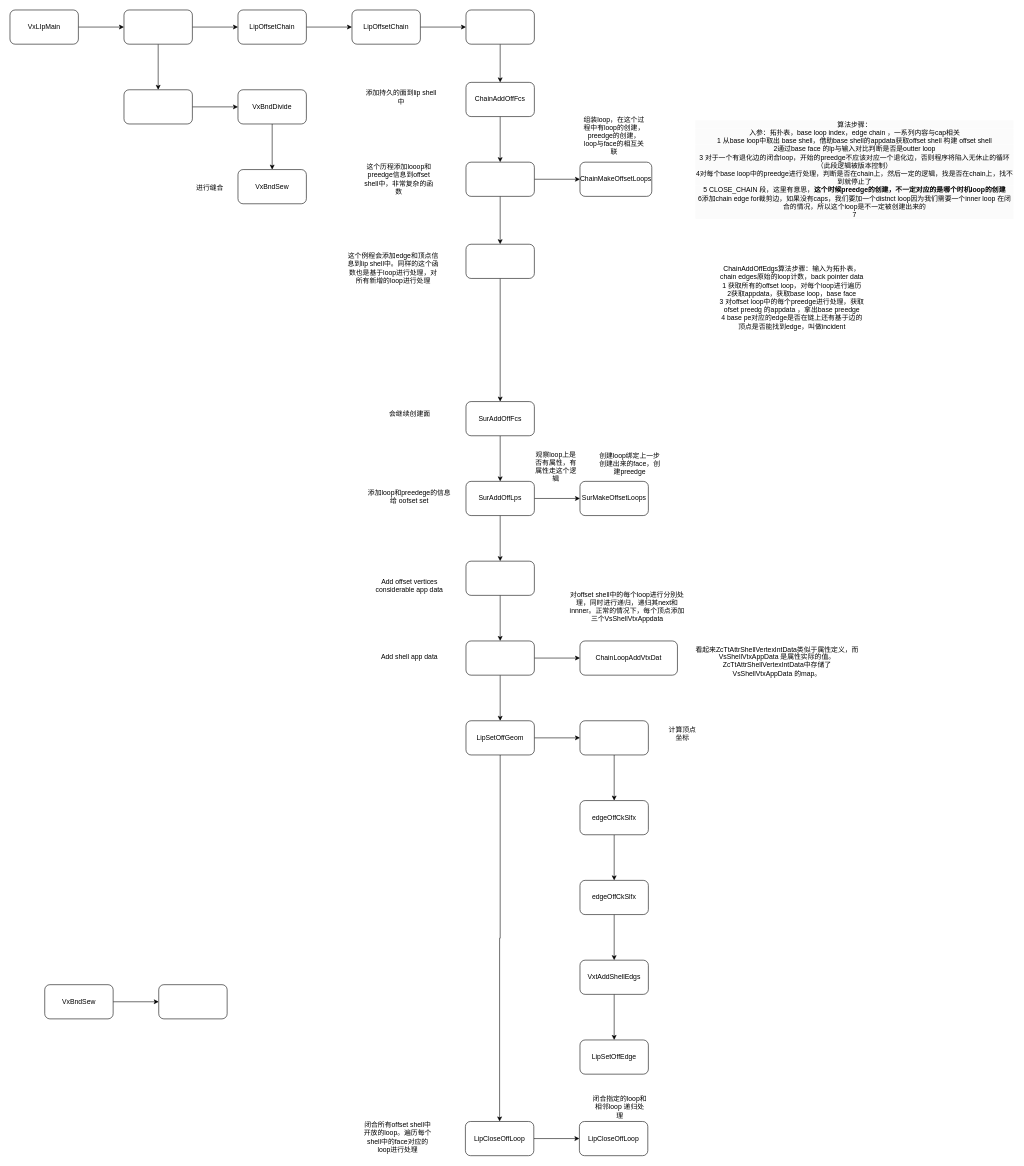
Some shapes in this 1024 by 1166 pixel diagram are drawn without their labels. The centre of each missing label's shape, as x and y in pixels:
"ChainAddOffEdgs" goes at point 499,261.
"ChainAddOffLps" goes at point 499,179.
"ChainAddVtxDat" goes at point 499,657.
"ChainMarkVtxDat" goes at point 499,26.
"SurAddOffEdgs" goes at point 499,578.
"VtxEvalOffPnts" goes at point 613,737.
"VxLipApply" goes at point 157,106.
"VxLipShell" goes at point 157,26.
"VxVtxMergeList" goes at point 192,1001.
